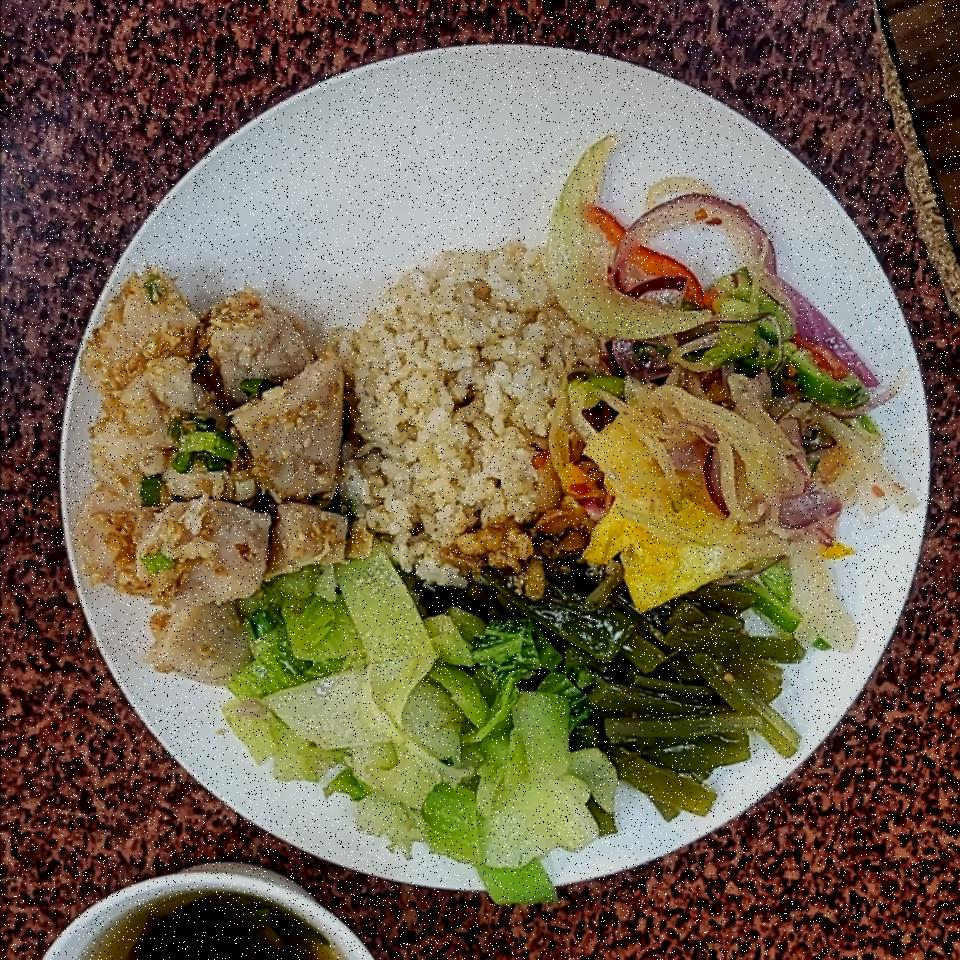brown rice: (342, 236, 614, 586)
plate: (46, 42, 938, 901)
scallion chicken: (83, 274, 354, 681)
side dish: (560, 164, 907, 585), (242, 566, 590, 884), (514, 562, 792, 802)
